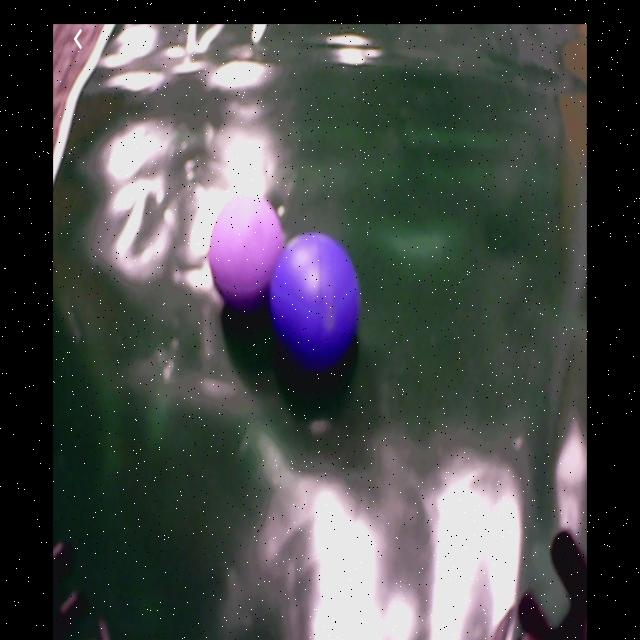ball: (274, 231, 363, 362), (210, 196, 285, 309)
